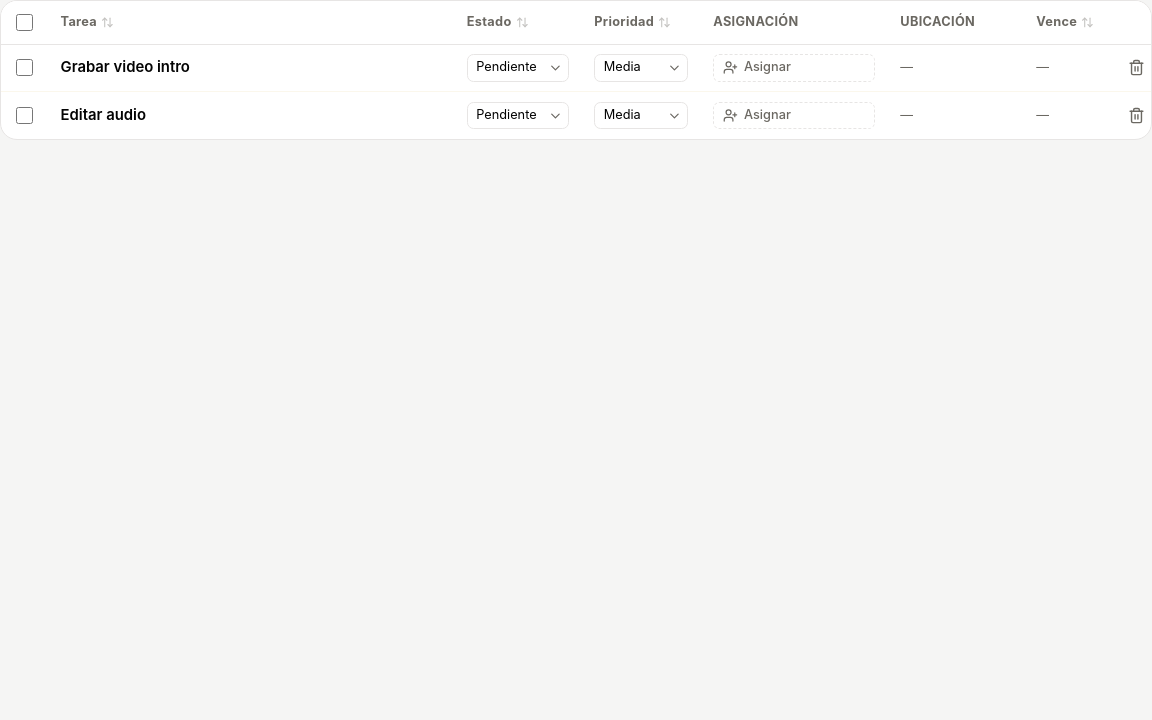
Scenario: TasksTable — eliminar tareas › cancelar el modal no elimina nada
Click the button named "Eliminar Grabar video intro": (1136, 68) [1121,53,1151,83]
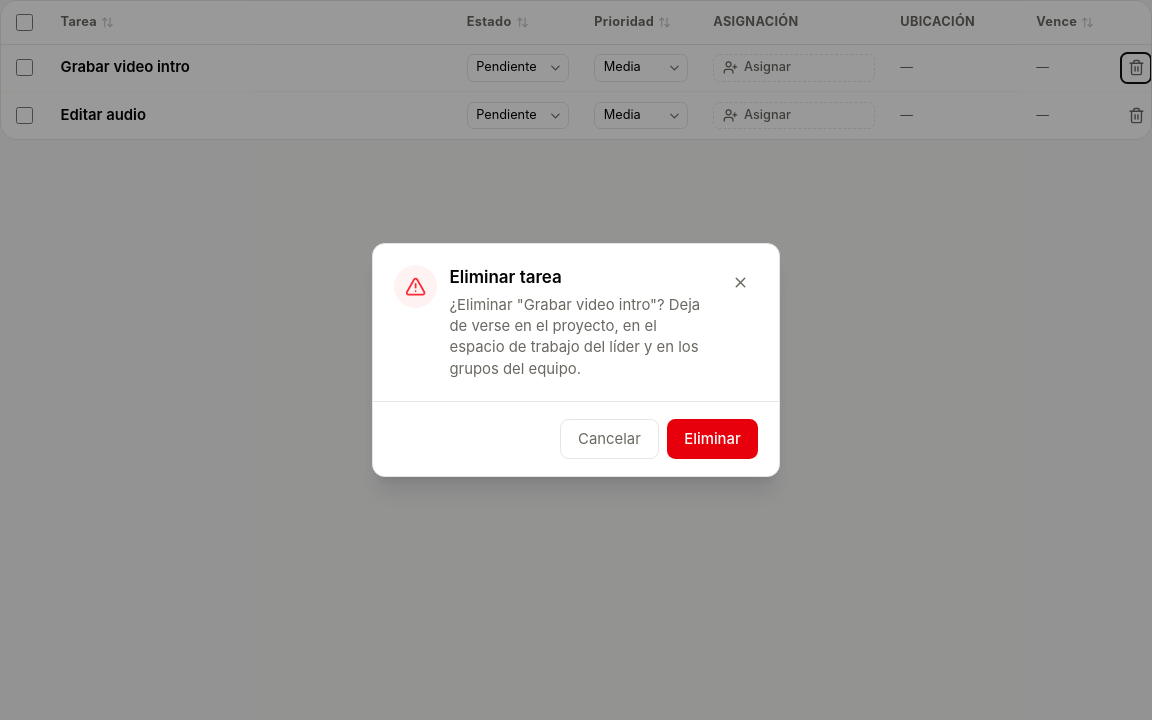
Click the button "Cancelar": (609, 439) [560,419,659,459]
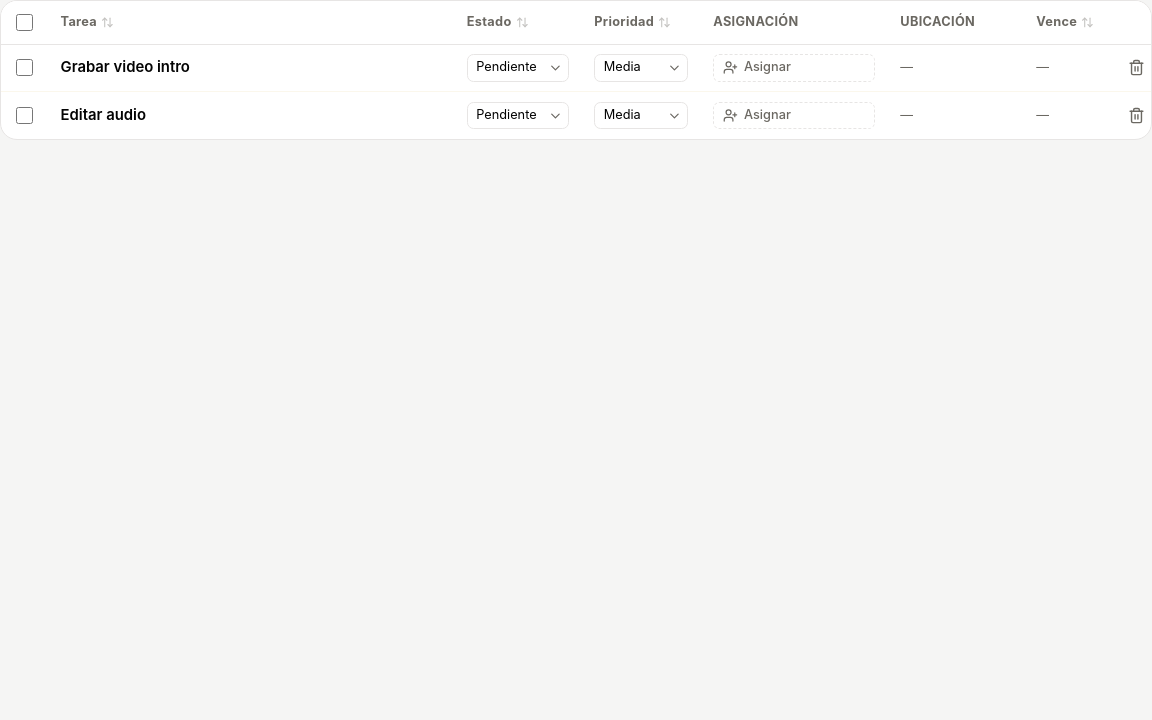
Expected: the dialog is gone
